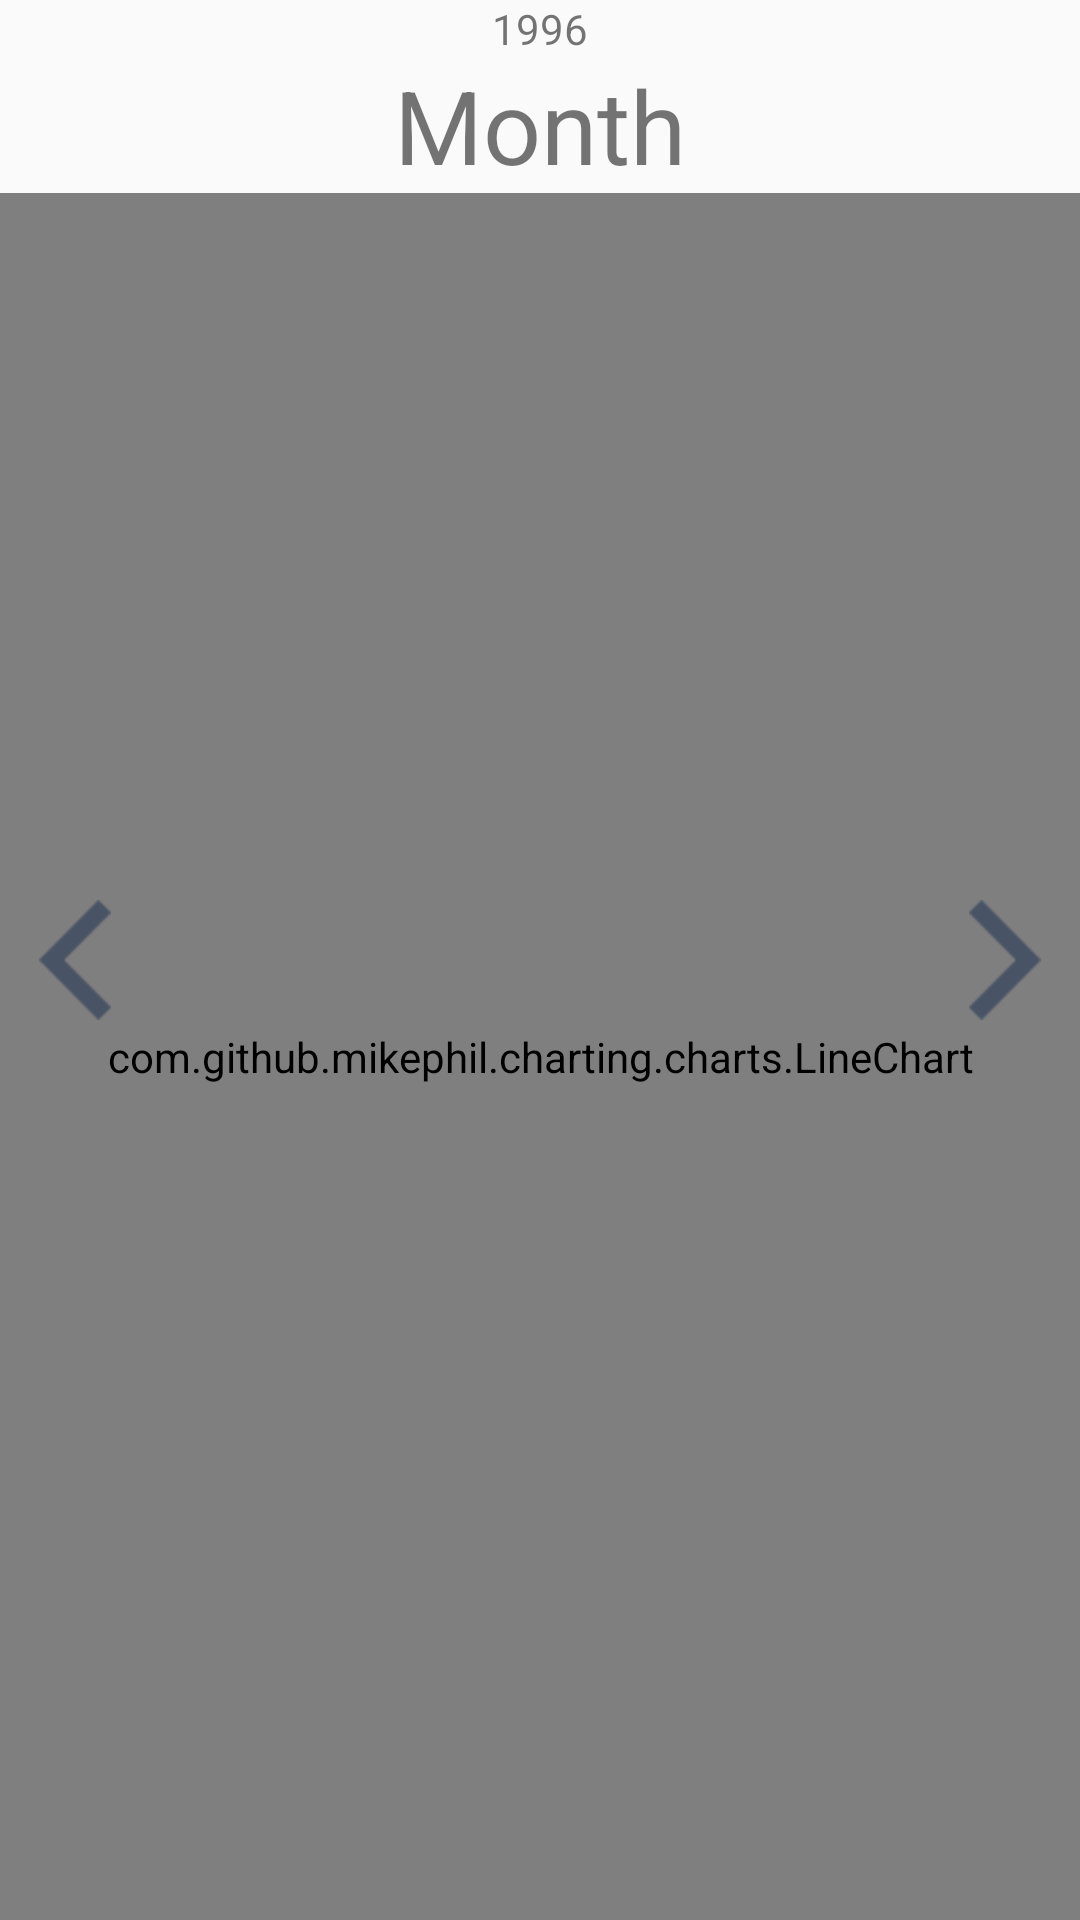

Screen size 1080px x 1920px. Icon name, then its box in pixels as (x1, y1, x2, y2):
arrow back: (39, 900, 111, 1020)
arrow forward: (969, 900, 1041, 1020)
